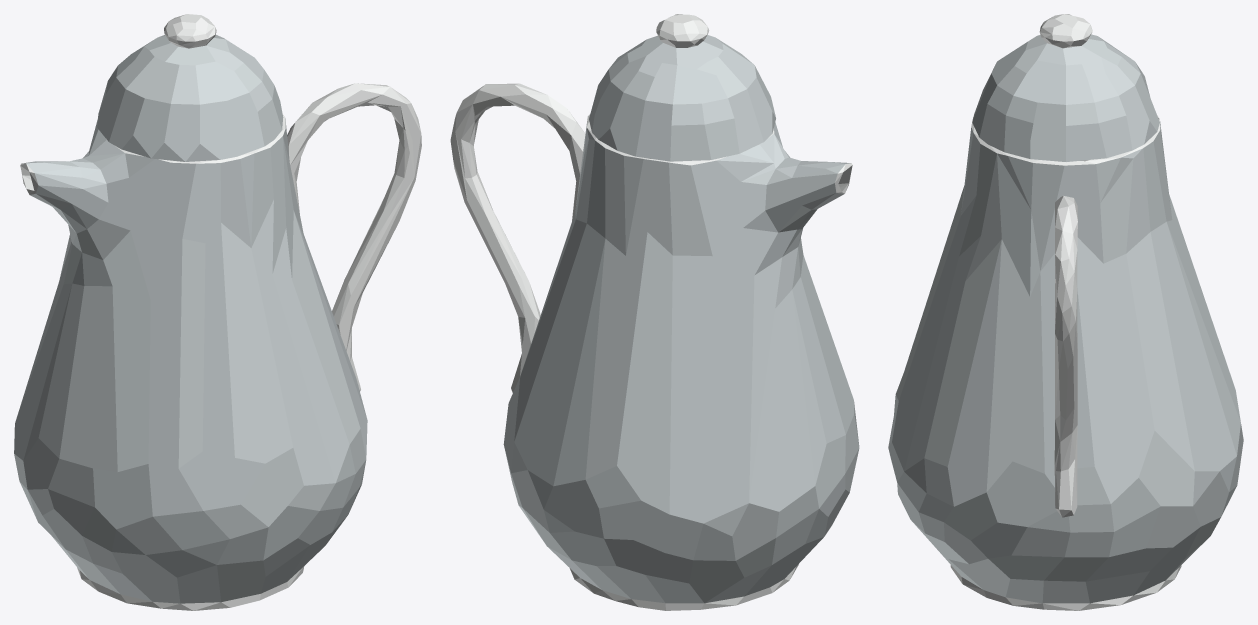
Rendered from TeapotWhite.fbx.
3 views of the same model, side by side, from view 1: azimuth 30°, elevation 25°; view 2: azimuth 150°, elevation 25°; view 3: azimuth 270°, elevation 25° (orthographic).
Parts seen in each view (by area): view 1: TeapotLowPolyMetalWhite, TeapotLidLowPolyWhite; view 2: TeapotLowPolyMetalWhite, TeapotLidLowPolyWhite; view 3: TeapotLowPolyMetalWhite, TeapotLidLowPolyWhite.
Part boxes in pixels (left/top/right/bottom): TeapotLowPolyMetalWhite: left=14, top=83, right=421, bottom=610; TeapotLidLowPolyWhite: left=97, top=14, right=283, bottom=161; TeapotLowPolyMetalWhite: left=450, top=83, right=859, bottom=610; TeapotLidLowPolyWhite: left=589, top=14, right=775, bottom=161; TeapotLowPolyMetalWhite: left=888, top=115, right=1243, bottom=610; TeapotLidLowPolyWhite: left=972, top=14, right=1159, bottom=161.
Size of the model in its own units: 16.78 by 22.07 by 13.07.
